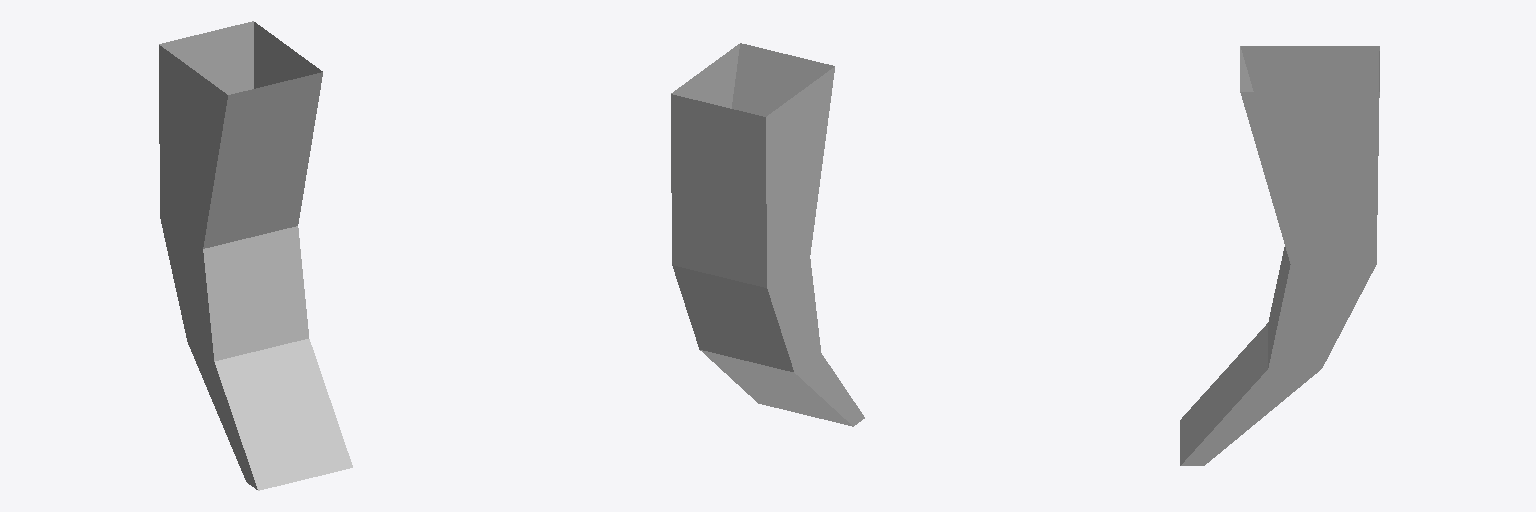
File: blastertrigger001.obj
3 renders of one model, left to right at view 1: azimuth 30°, elevation 25°; view 2: azimuth 150°, elevation 25°; view 3: azimuth 270°, elevation 25°, orthographic.
Parts seen in each view (by area): view 1: trigger; view 2: trigger; view 3: trigger.
Boxes of the visible parts, x1,y1,x2,y2 form: trigger: [159, 21, 352, 490]; trigger: [671, 43, 864, 426]; trigger: [1180, 46, 1379, 465].
Bounding box in the file's own units: 0.7628 × 2.87 × 1.38.